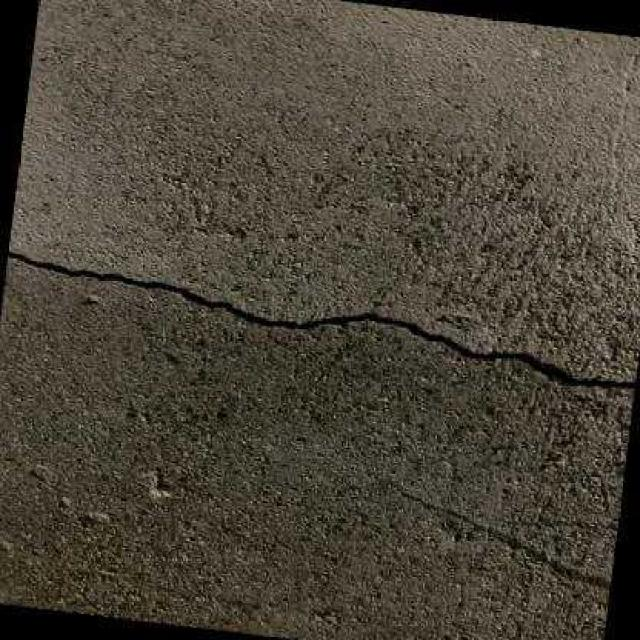D00: (5, 249, 635, 396)
